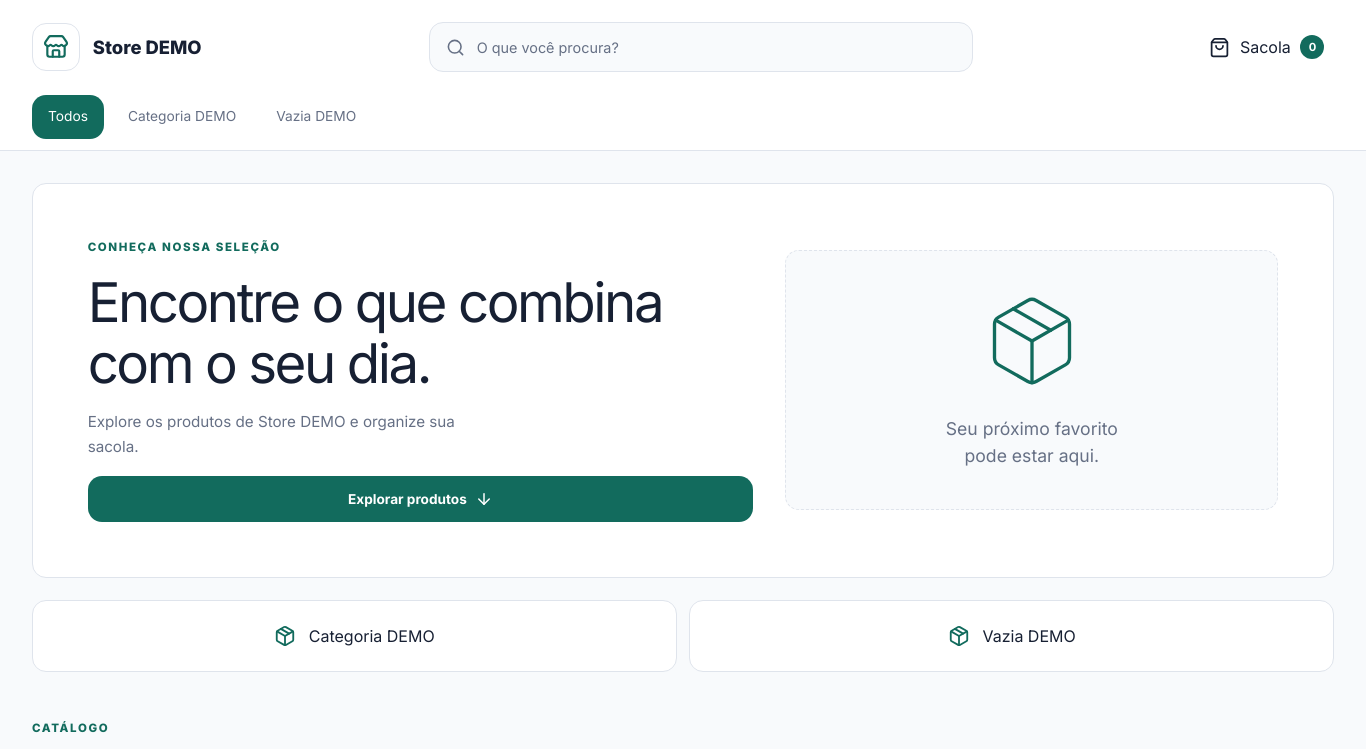
Test: loja pública e sacola › busca/categoria filtram grid e exibem estados vazios
Step 1. Type "não existe" into the search field → (716, 47), box [477,23,956,71]
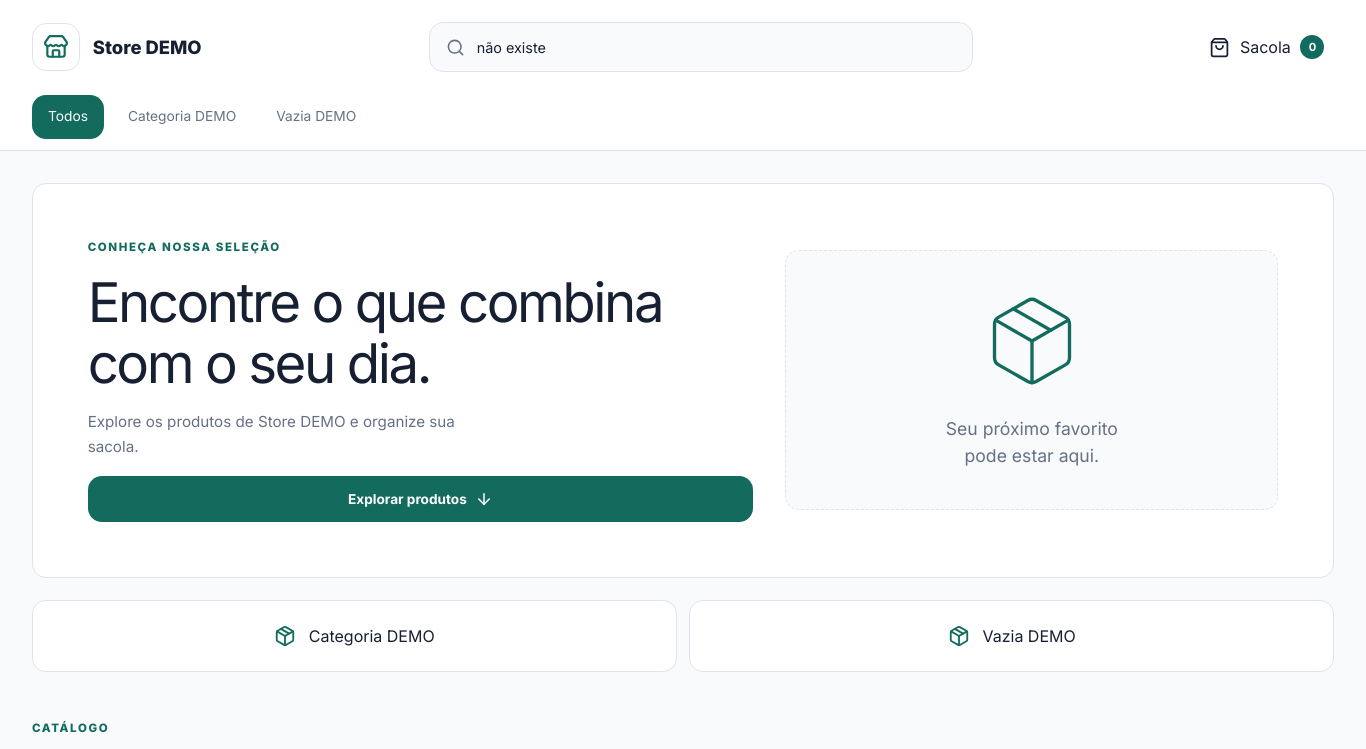
Step 2. Clear the search field → (716, 47), box [477,23,956,71]
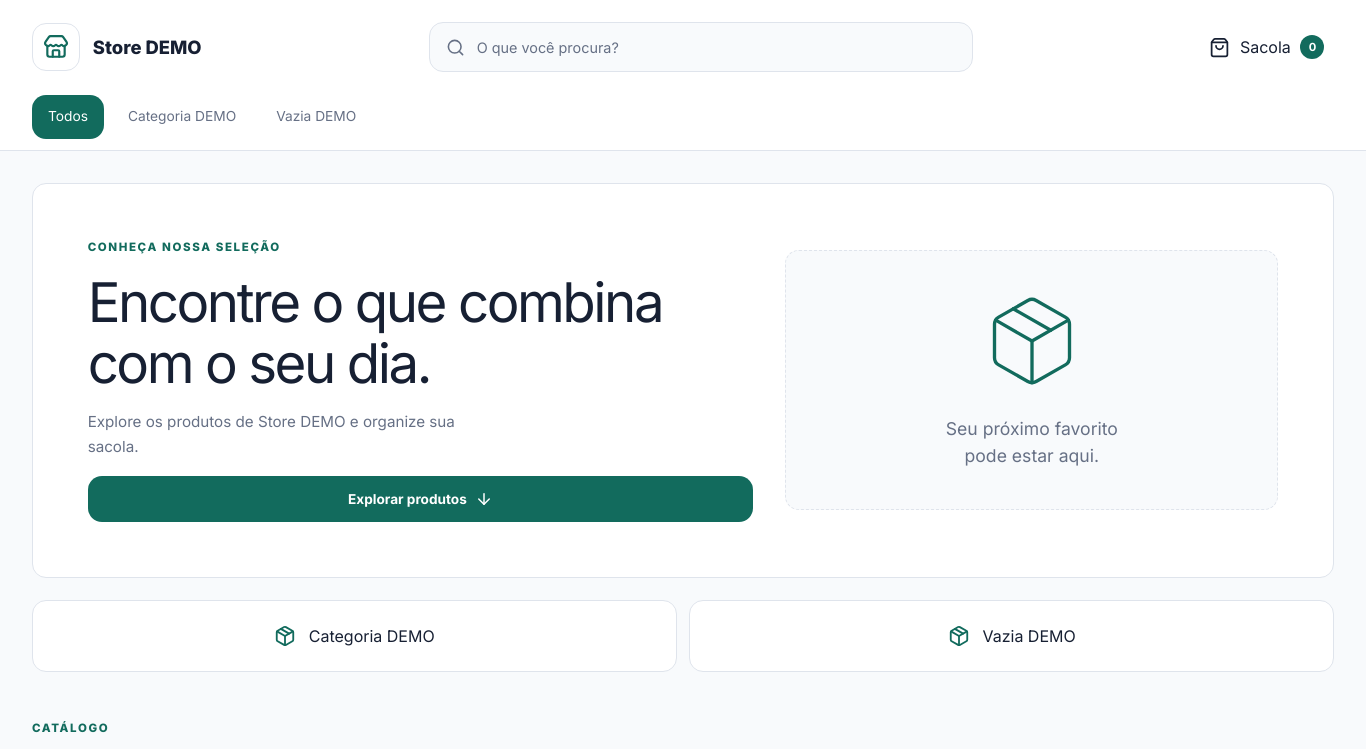
Step 3. Click the 1st button "Vazia DEMO" → (316, 117), box [260,95,372,139]
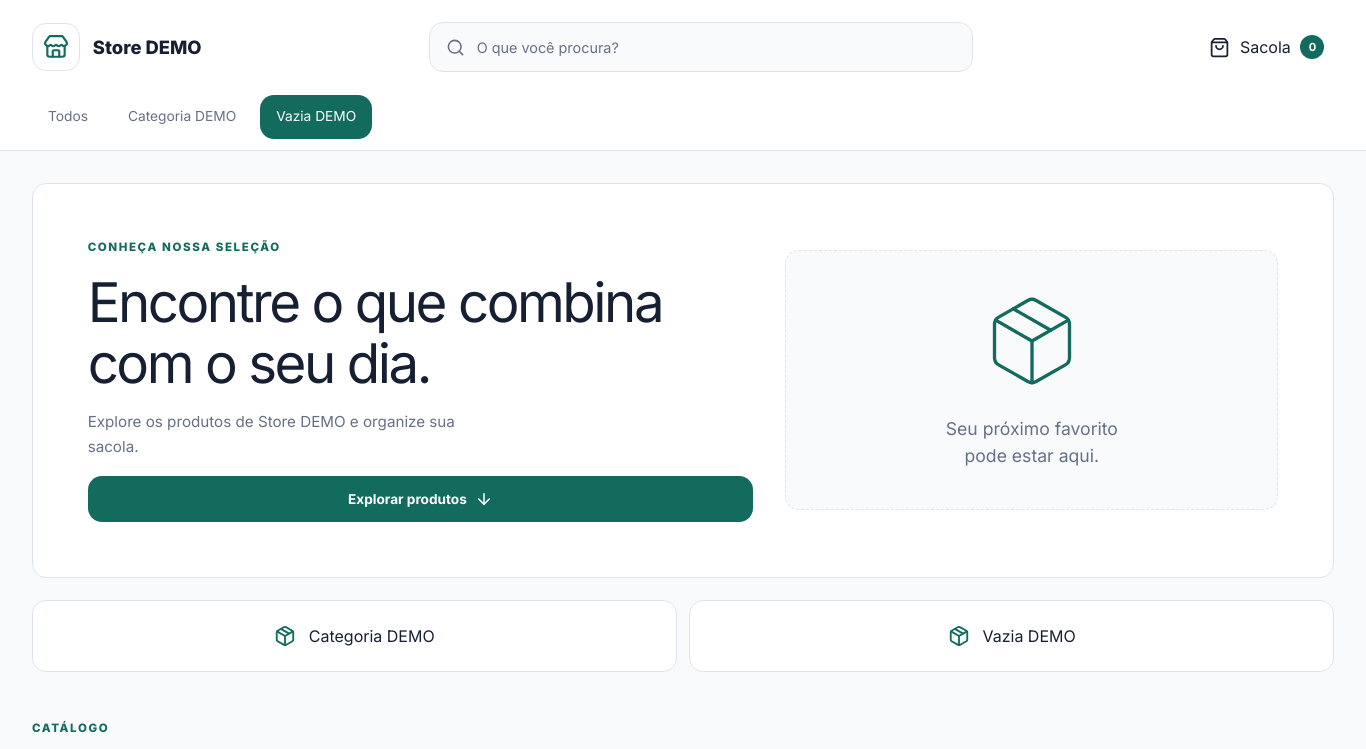
Step 4. Click the button "Todos" → (68, 117), box [32,95,104,139]
(page scrolled)
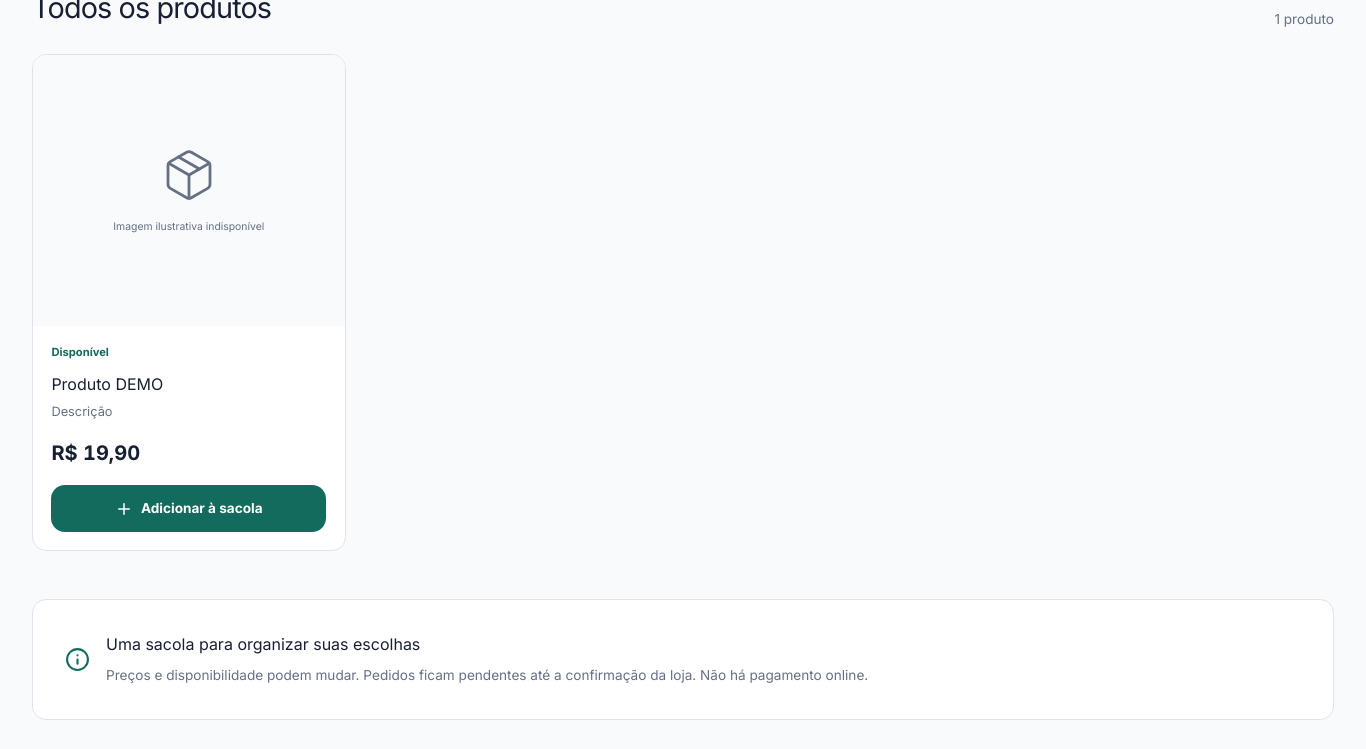
Result: the heading "Produto DEMO" is shown at [51,373,163,395]
